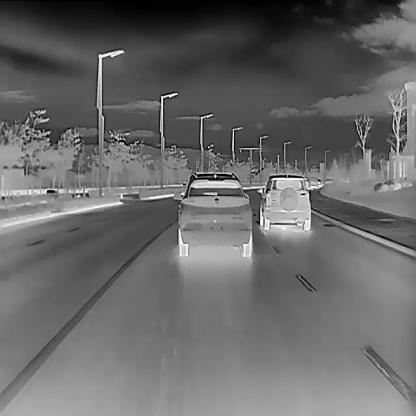car: (172, 171, 252, 256), (256, 173, 310, 229), (302, 174, 310, 188)
